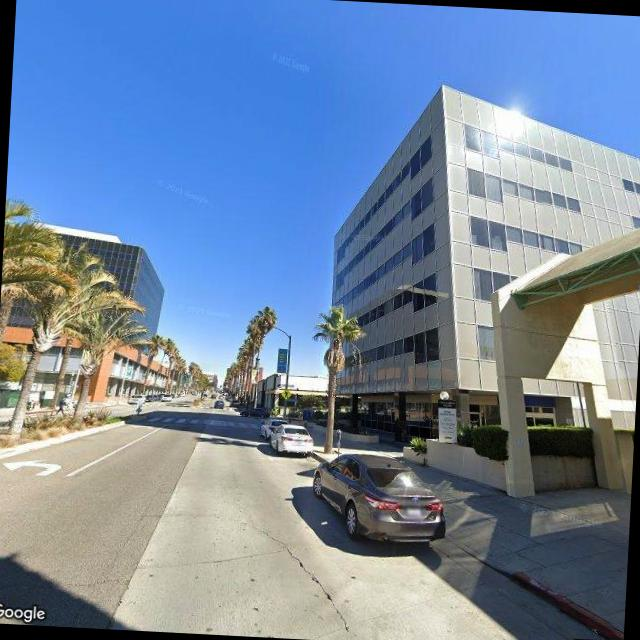pothole: (236, 513, 356, 633)
